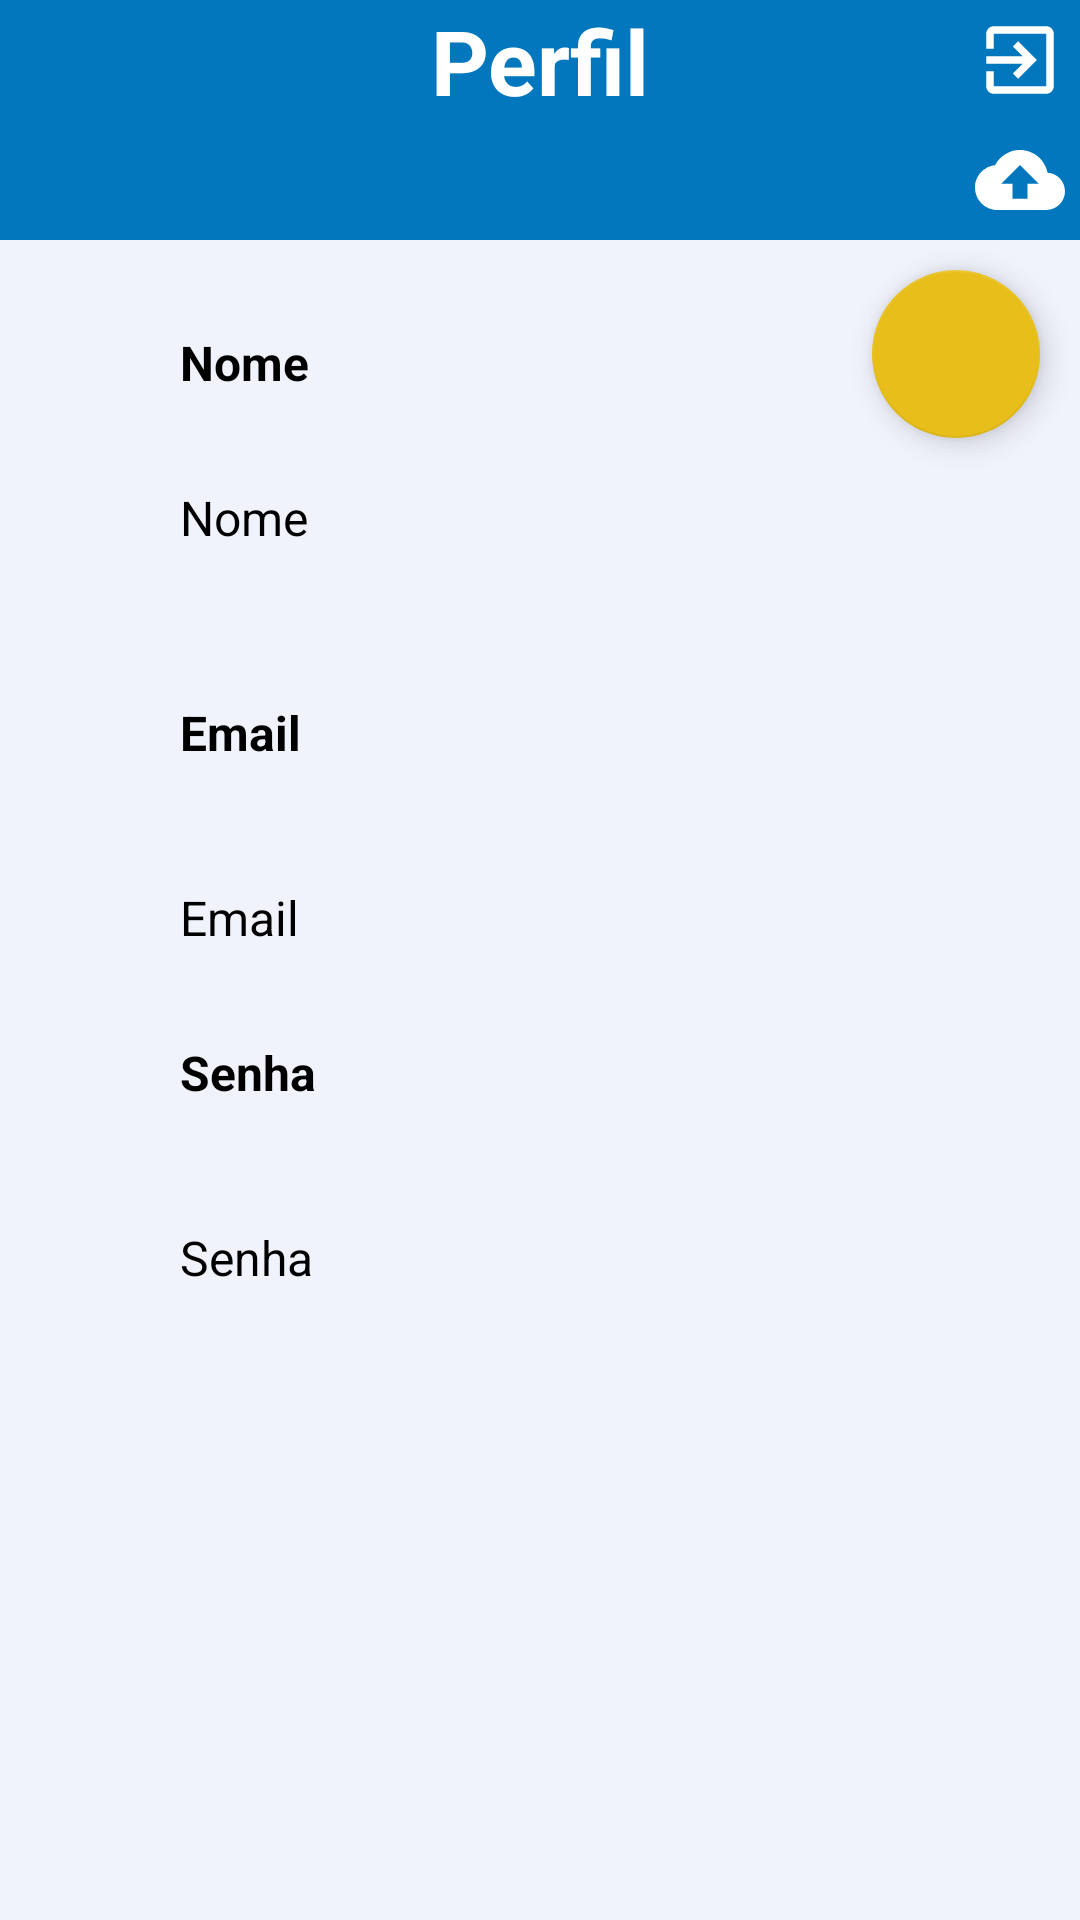

Locate icon controls on the screen. Image size 1080×1920, boxes as (x1, y1, x2, y2).
backup: (975, 150, 1065, 210)
exit: (986, 26, 1054, 94)
